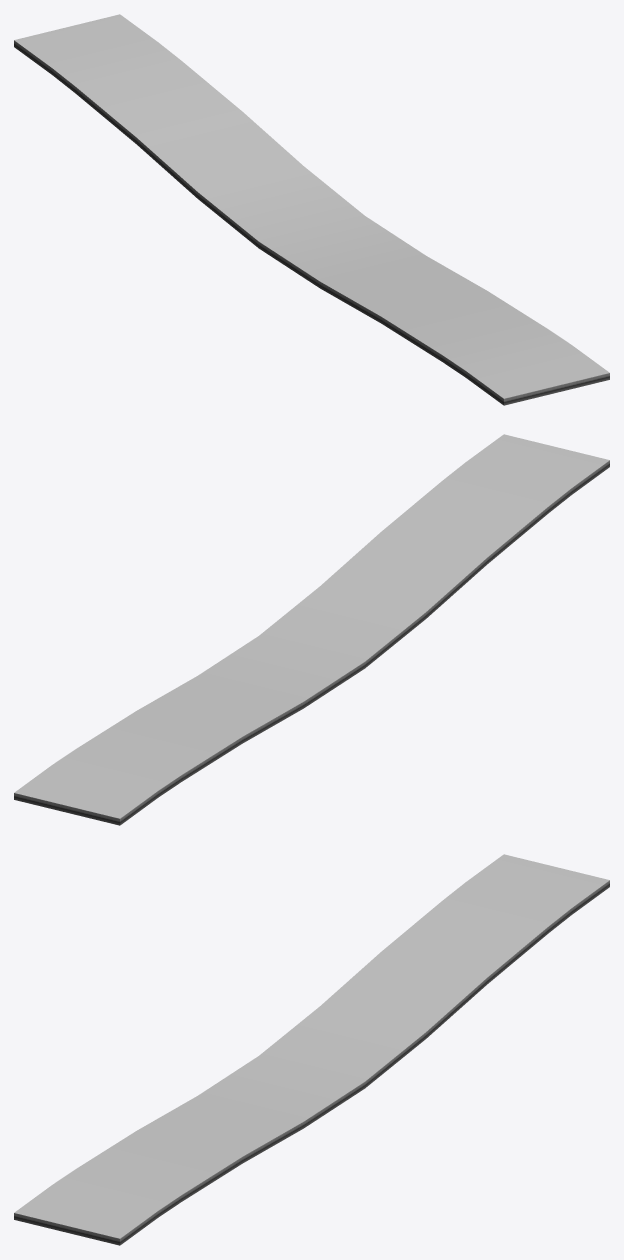
The model's file is StrDip.fbx.
The picture shows the model from 3 angles, top to bottom: view 1: azimuth 30°, elevation 25°; view 2: azimuth 150°, elevation 25°; view 3: azimuth 330°, elevation 25°; orthographic projection.
Parts seen in each view (by area): view 1: Empty_Mesh; view 2: Empty_Mesh; view 3: Empty_Mesh.
Boxes of the visible parts, x1,y1,x2,y2 form: Empty_Mesh: [14, 14, 609, 405]; Empty_Mesh: [14, 434, 609, 825]; Empty_Mesh: [14, 854, 609, 1245].
Size of the model in its own units: 1600 by 420 by 12800.
